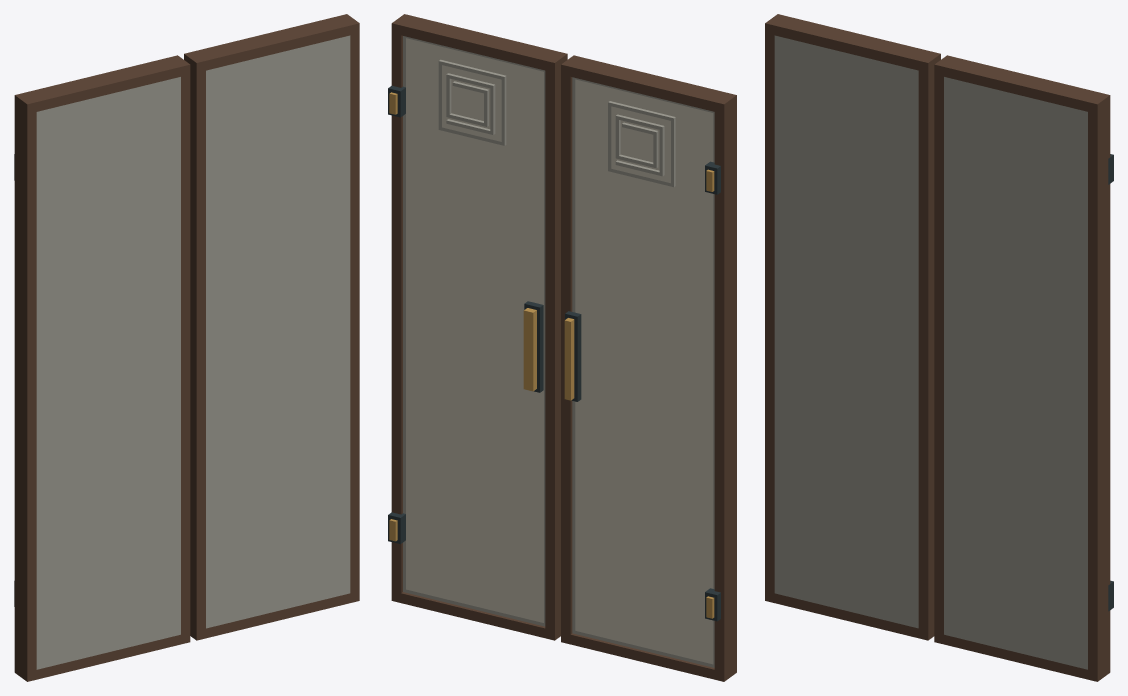
3 renders of one model, left to right at view 1: azimuth 30°, elevation 25°; view 2: azimuth 150°, elevation 25°; view 3: azimuth 330°, elevation 25°, orthographic.
Visible parts, largest first — view 1: 衣柜门叶与把手; view 2: 衣柜门叶与把手; view 3: 衣柜门叶与把手.
Boxes of the visible parts, bbox=[...] form: 衣柜门叶与把手: bbox=[14, 14, 359, 681]; 衣柜门叶与把手: bbox=[388, 14, 736, 681]; 衣柜门叶与把手: bbox=[765, 14, 1113, 681].
Size of the model in its own units: 1.06 by 1.76 by 0.12.
Materials: 5 (5 with a texture image).
